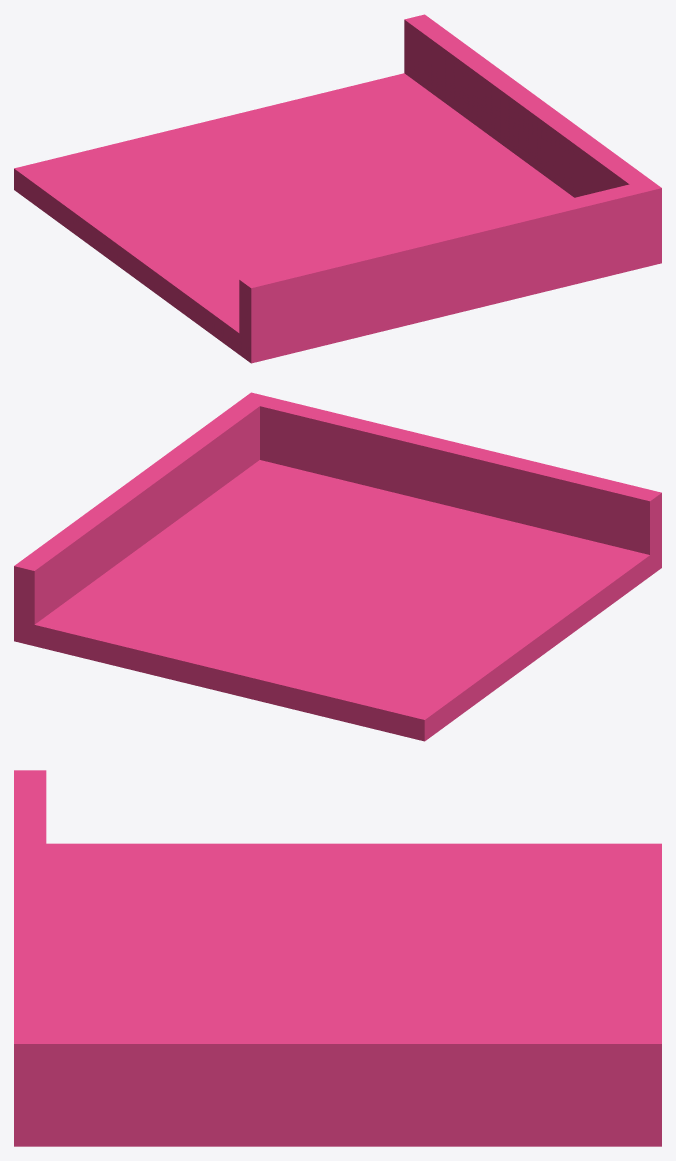
Rendered from PinkRoof_Corner.glb.
The picture shows the model from 3 angles, top to bottom: view 1: azimuth 30°, elevation 25°; view 2: azimuth 150°, elevation 25°; view 3: azimuth 270°, elevation 25°; orthographic projection. The views are drawn at different scales.
Parts seen in each view (by area): view 1: roof_flat_corner_pink; view 2: roof_flat_corner_pink; view 3: roof_flat_corner_pink.
Part boxes in pixels (left/top/right/bottom): roof_flat_corner_pink: left=14, top=14, right=661, bottom=363; roof_flat_corner_pink: left=14, top=392, right=661, bottom=741; roof_flat_corner_pink: left=14, top=770, right=661, bottom=1146.
Size of what is drawn, in the model's own units: 4 by 0.7 by 4.
Materials: 1 (1 with a texture image).
